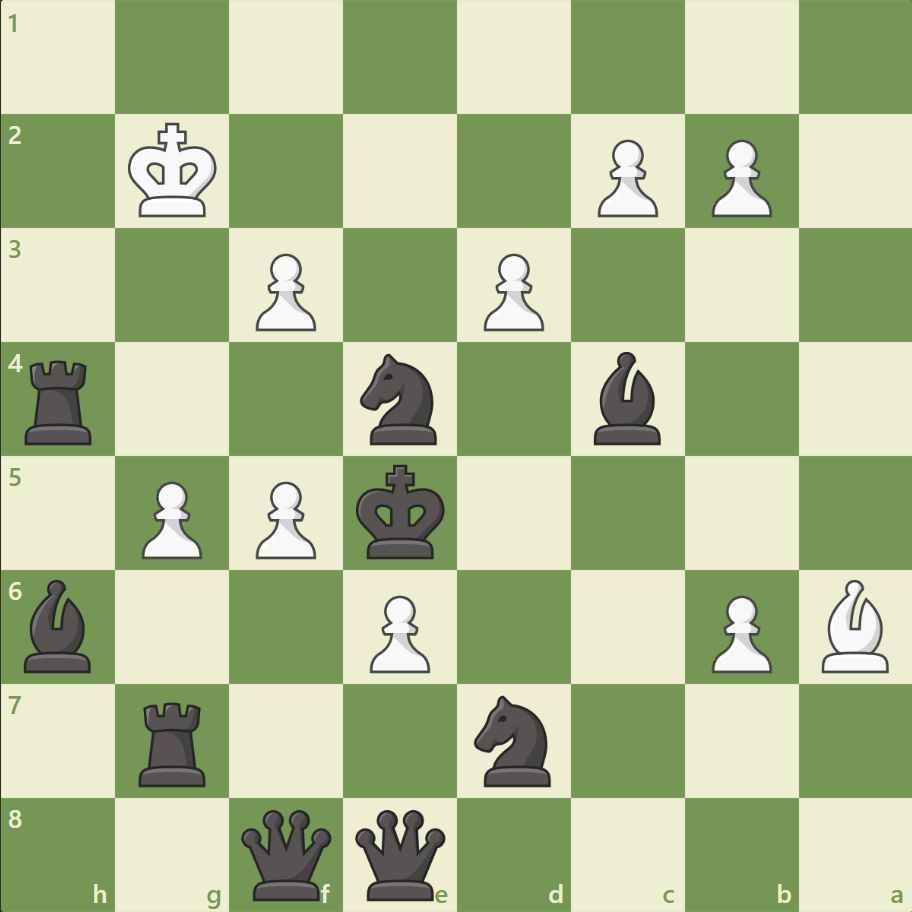B: (812, 574, 896, 676)
K: (124, 117, 224, 225)
P: (701, 586, 776, 677), (247, 473, 322, 564), (133, 473, 208, 564), (474, 246, 549, 337), (247, 246, 322, 337), (701, 132, 776, 223), (361, 586, 435, 677), (588, 132, 662, 223)
b: (17, 574, 101, 676), (585, 347, 669, 449)
k: (351, 458, 451, 566)
n: (351, 348, 449, 450), (465, 688, 562, 791)
q: (351, 804, 450, 903), (237, 804, 336, 903)
r: (19, 352, 102, 449), (133, 693, 215, 790)
